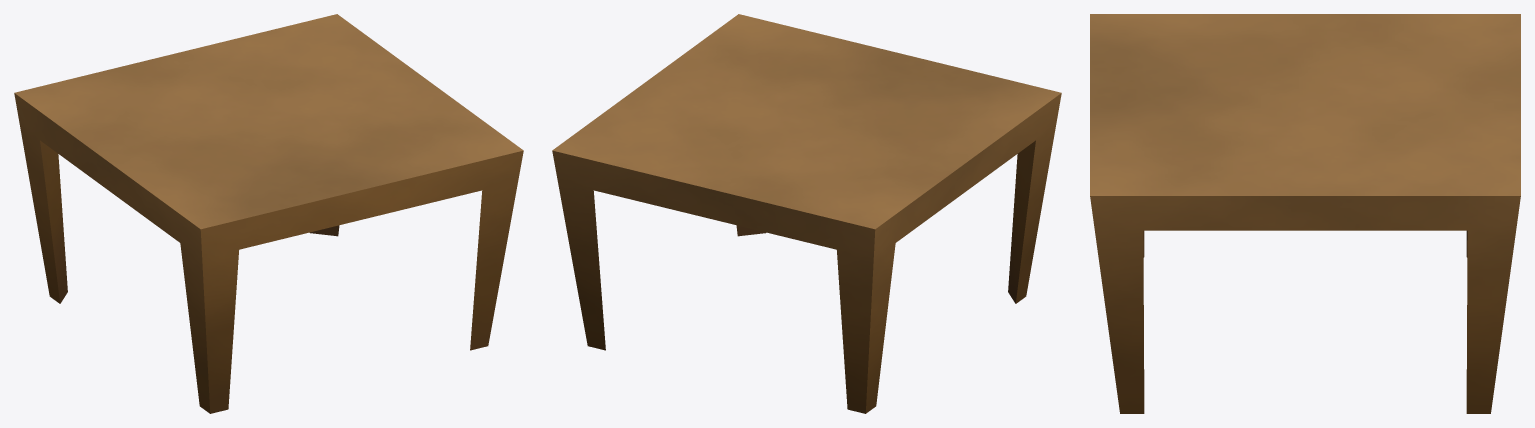
File: MrTable.FBX
3 renders of one model, left to right at view 1: azimuth 30°, elevation 25°; view 2: azimuth 150°, elevation 25°; view 3: azimuth 270°, elevation 25°, orthographic. The views are drawn at different scales.
Visible parts, largest first — view 1: Box003; view 2: Box003; view 3: Box003.
Boxes of the visible parts, x1=… form: Box003: x1=14, y1=14, x2=523, y2=413; Box003: x1=552, y1=14, x2=1061, y2=413; Box003: x1=1090, y1=14, x2=1520, y2=413.
Size of what is drawn, in the model's own units: 186 by 110 by 186.
1 material, 1 textured.
